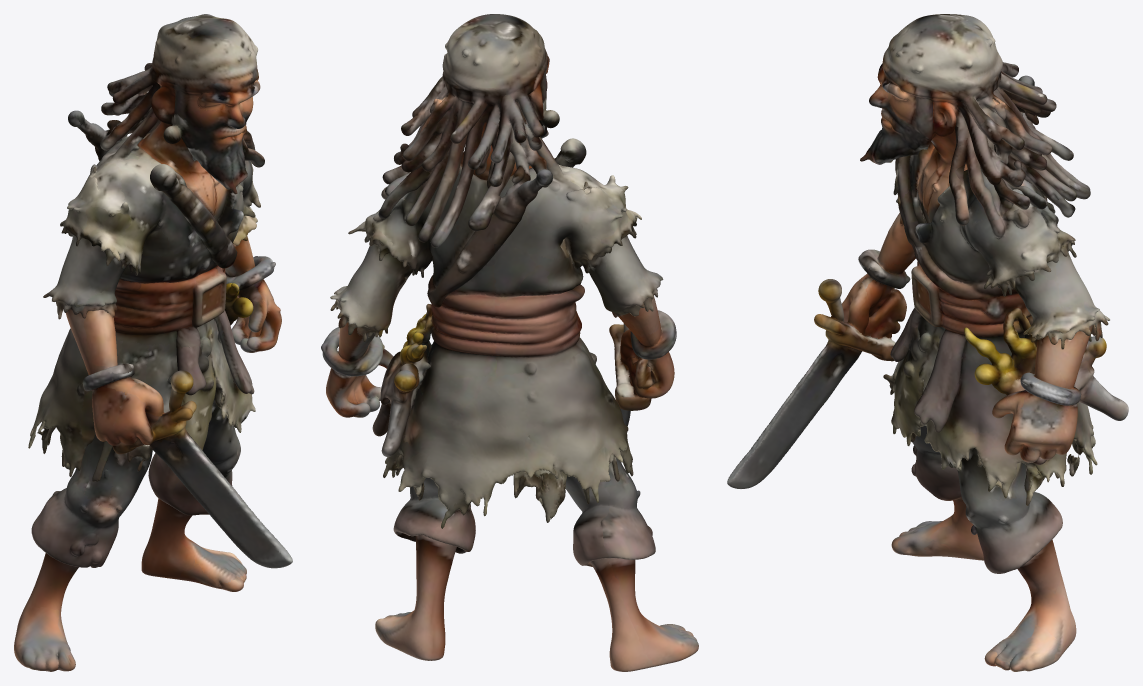
File: korsarz.glb
3 renders of one model, left to right at view 1: azimuth 30°, elevation 25°; view 2: azimuth 150°, elevation 25°; view 3: azimuth 270°, elevation 25°, orthographic. The views are drawn at different scales.
Parts seen in each view (by area): view 1: tripo_node_7dfef845-da7a-41fe-b171-318220d1bbc5; view 2: tripo_node_7dfef845-da7a-41fe-b171-318220d1bbc5; view 3: tripo_node_7dfef845-da7a-41fe-b171-318220d1bbc5.
Boxes of the visible parts, x1,y1,x2,y2 form: tripo_node_7dfef845-da7a-41fe-b171-318220d1bbc5: (14,14,292,671); tripo_node_7dfef845-da7a-41fe-b171-318220d1bbc5: (321,14,698,671); tripo_node_7dfef845-da7a-41fe-b171-318220d1bbc5: (727,14,1128,671).
Size of the model in its own units: 0.5392 by 1 by 0.5904.
1 material, 1 textured.
